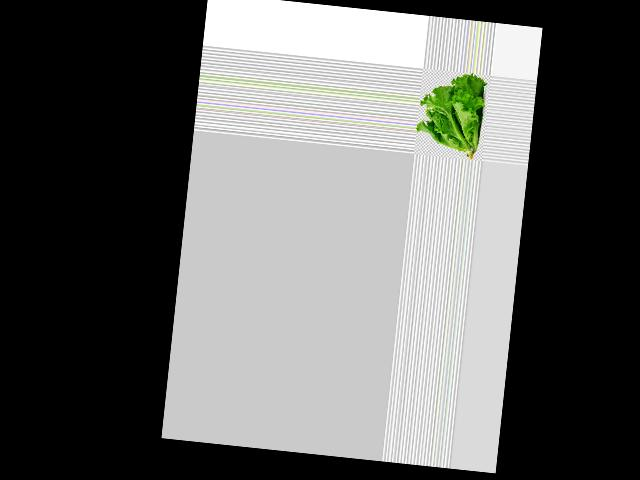lettuce: (414, 69, 485, 160)
